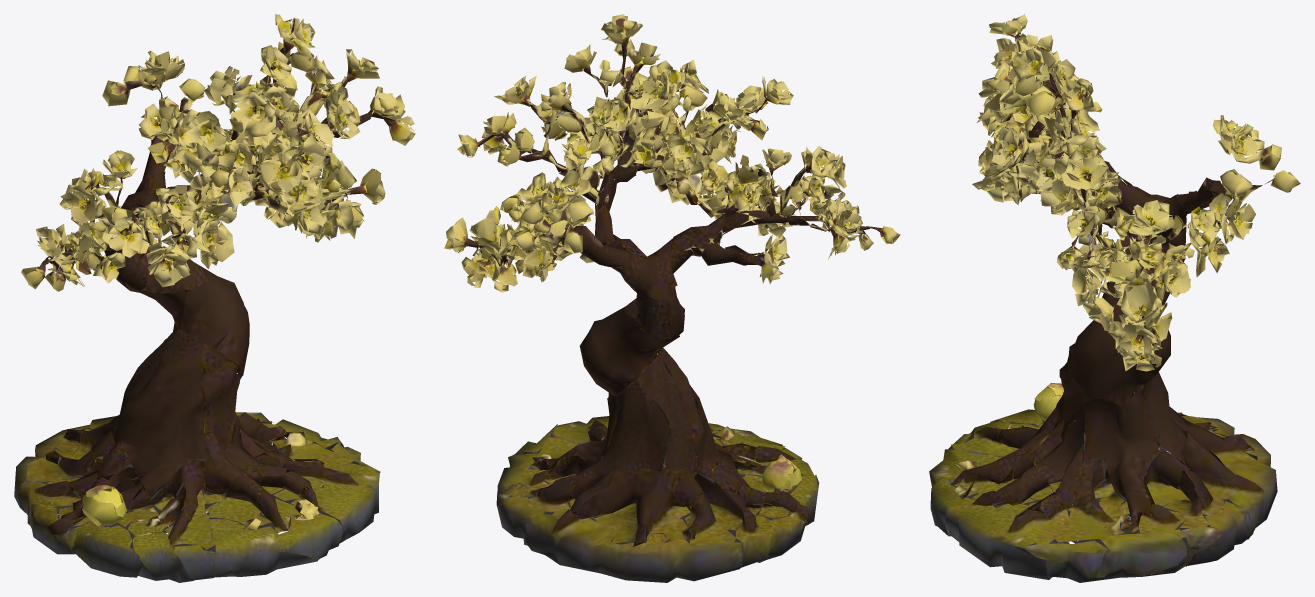
File: maple_tree.glb
3 renders of one model, left to right at view 1: azimuth 30°, elevation 25°; view 2: azimuth 150°, elevation 25°; view 3: azimuth 270°, elevation 25°, orthographic. The views are drawn at different scales.
Visible parts, largest first — view 1: maple_tree; view 2: maple_tree; view 3: maple_tree.
Part boxes in pixels (x1=…): maple_tree: x1=14, y1=14, x2=415, y2=582; maple_tree: x1=444, y1=14, x2=900, y2=582; maple_tree: x1=929, y1=14, x2=1300, y2=582.
Bounding box in the file's own units: 2.83 × 3.2 × 2.15.
Materials: 1 (1 with a texture image).
